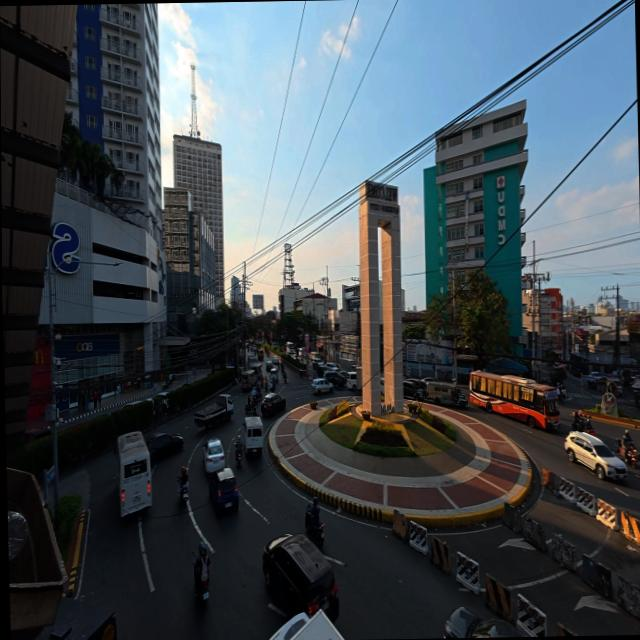car: (260, 533, 340, 622), (200, 439, 227, 474), (309, 376, 332, 394)
trucks: (190, 395, 234, 433)
